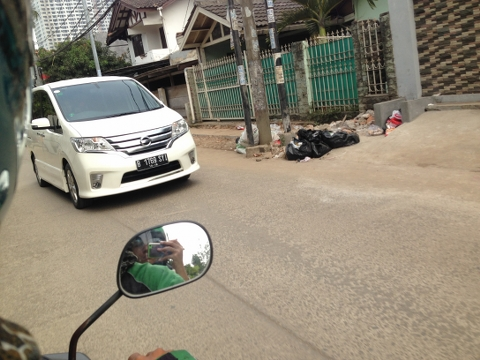mobil: (25, 76, 200, 209)
